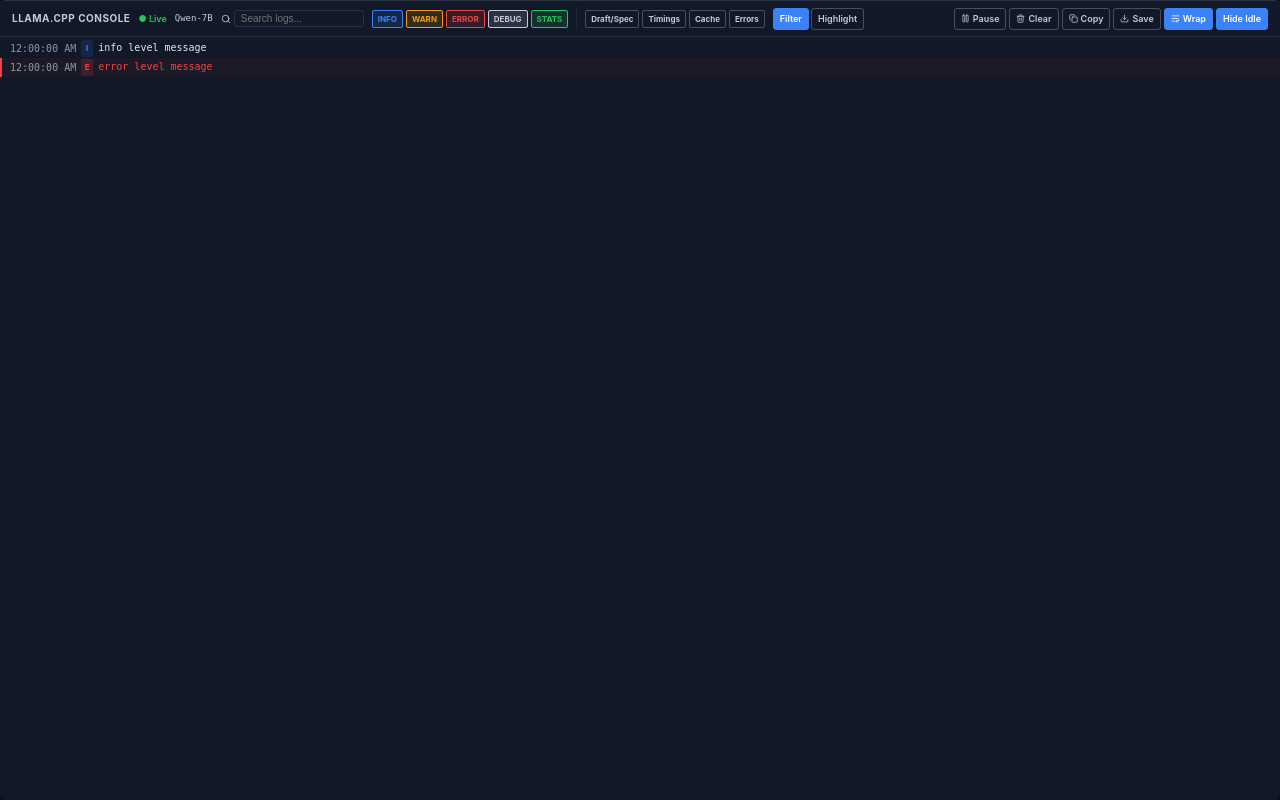
Test: LogConsole search and filter mode › toggling INFO chip off hides info-level lines
Expected: the text "info level message" is shown, [98, 42, 207, 53]
Click the button "INFO": (387, 18) [372, 10, 403, 28]
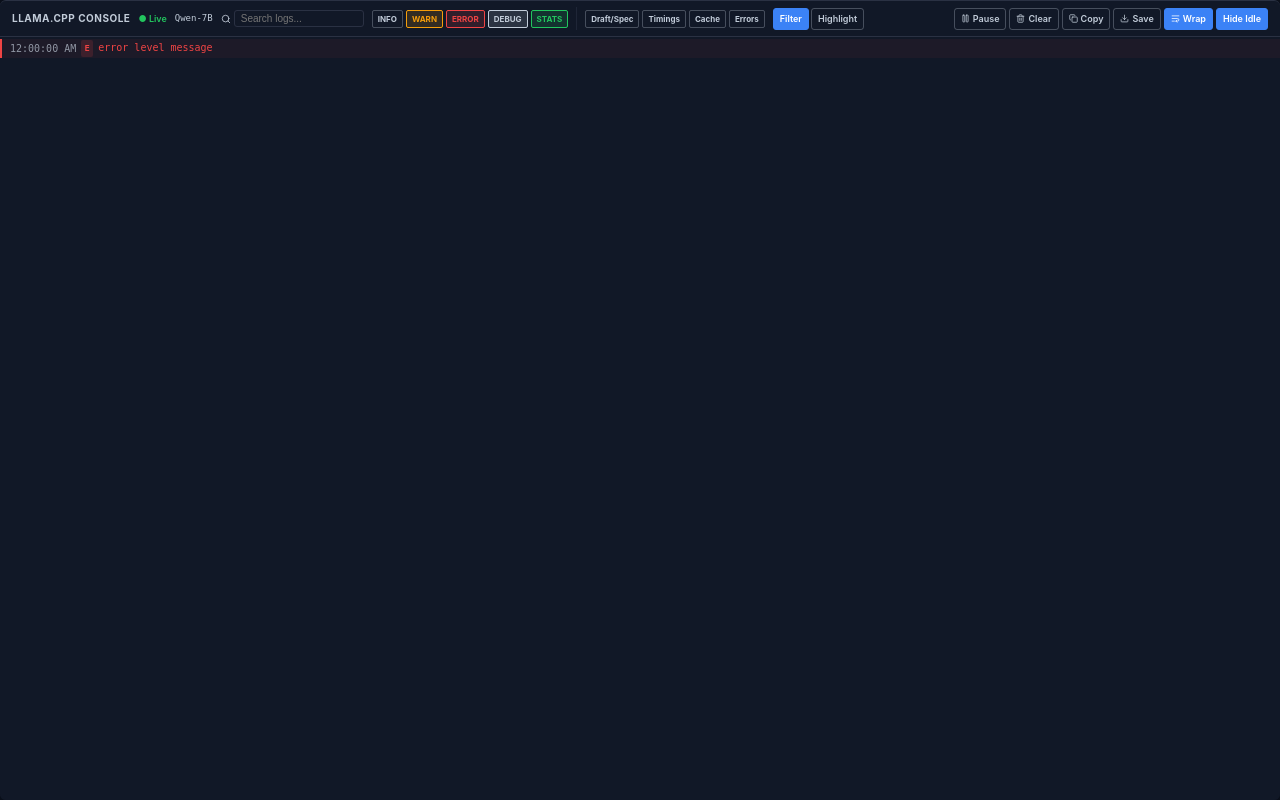
Expected: the text "info level message" is gone
Expected: the text "error level message" is shown, [98, 42, 213, 53]
